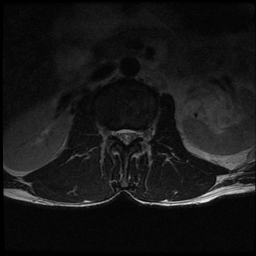CCS_stenosis: (122, 124, 130, 150)
LFS_normal: (136, 125, 142, 142)
LLS_normal: (130, 124, 136, 145)
RFS_stenosis: (111, 125, 116, 142)
RLS_normal: (116, 124, 123, 142)
